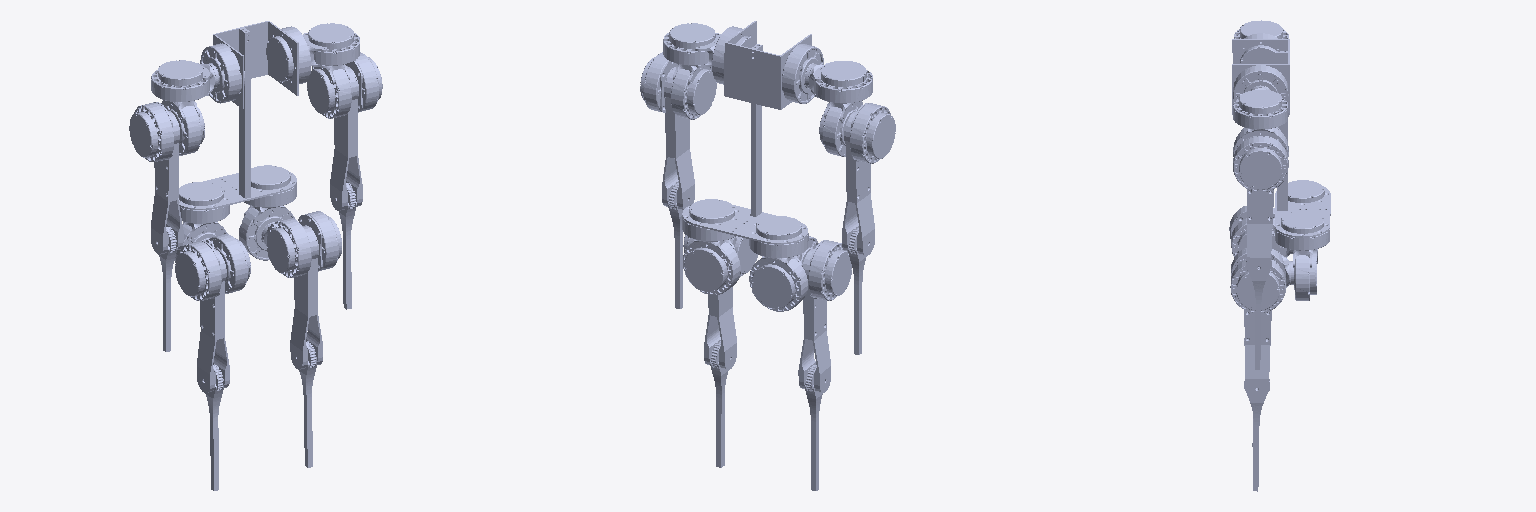
--- What the picture shows (computed from the rendered views, not written in the file) ---
The picture shows the robot from 3 angles, left to right: view 1: azimuth 30°, elevation 25°; view 2: azimuth 150°, elevation 25°; view 3: azimuth 270°, elevation 25°; orthographic projection.
Robot: solidrobot_simplified_with_boots — 17 links, 16 joints (16 revolute); root link torso_link; default pose: every joint at zero.
Visible links, largest first — view 1: right_thigh_link, left_thigh_link, right_elbow_pitch_link, left_elbow_pitch_link, torso_link, right_shoulder_pitch_link, left_shoulder_pitch_link, right_hip_roll_link, right_shoulder_roll_link, left_shoulder_roll_link, left_hip_roll_link, left_hip_yaw_link (+4 smaller); view 2: torso_link, right_elbow_pitch_link, left_elbow_pitch_link, right_thigh_link, left_thigh_link, right_shoulder_pitch_link, right_hip_yaw_link, left_hip_yaw_link, right_hip_roll_link, left_shoulder_pitch_link, right_shoulder_roll_link, left_hip_roll_link (+5 smaller); view 3: left_elbow_pitch_link, left_thigh_link, torso_link, left_shoulder_pitch_link, left_hip_roll_link, left_shoulder_roll_link, left_hip_yaw_link, right_thigh_link, right_hip_roll_link, right_shoulder_roll_link, left_shin_link, left_wrist_pitch_link (+1 smaller).
Link boxes in pixels (left/top/right/bottom): right_thigh_link: left=175, top=234, right=250, bottom=392; left_thigh_link: left=267, top=211, right=341, bottom=369; right_elbow_pitch_link: left=129, top=102, right=204, bottom=254; left_elbow_pitch_link: left=307, top=52, right=382, bottom=210; torso_link: left=178, top=21, right=298, bottom=209; right_shoulder_pitch_link: left=151, top=60, right=209, bottom=120; left_shoulder_pitch_link: left=308, top=23, right=359, bottom=83; right_hip_roll_link: left=179, top=182, right=229, bottom=240; right_shoulder_roll_link: left=198, top=43, right=244, bottom=103; left_shoulder_roll_link: left=266, top=26, right=326, bottom=83; left_hip_roll_link: left=244, top=165, right=296, bottom=224; left_hip_yaw_link: left=239, top=208, right=294, bottom=260; torso_link: left=682, top=21, right=811, bottom=244; right_elbow_pitch_link: left=819, top=103, right=895, bottom=255; left_elbow_pitch_link: left=640, top=52, right=716, bottom=210; right_thigh_link: left=798, top=236, right=851, bottom=392; left_thigh_link: left=683, top=235, right=757, bottom=369; right_shoulder_pitch_link: left=814, top=61, right=872, bottom=121; right_hip_yaw_link: left=749, top=254, right=807, bottom=311; left_hip_yaw_link: left=683, top=237, right=740, bottom=294; right_hip_roll_link: left=749, top=216, right=808, bottom=274; left_shoulder_pitch_link: left=663, top=23, right=716, bottom=83; right_shoulder_roll_link: left=782, top=44, right=827, bottom=103; left_hip_roll_link: left=682, top=199, right=735, bottom=258; left_elbow_pitch_link: left=1233, top=128, right=1288, bottom=278; left_thigh_link: left=1230, top=248, right=1285, bottom=399; torso_link: left=1232, top=39, right=1330, bottom=237; left_shoulder_pitch_link: left=1233, top=90, right=1288, bottom=141; left_hip_roll_link: left=1275, top=211, right=1329, bottom=267; left_shoulder_roll_link: left=1233, top=65, right=1288, bottom=101; left_hip_yaw_link: left=1273, top=251, right=1316, bottom=300; right_thigh_link: left=1229, top=206, right=1280, bottom=256; right_hip_roll_link: left=1288, top=180, right=1324, bottom=202; right_shoulder_roll_link: left=1240, top=33, right=1278, bottom=63; left_shin_link: left=1244, top=379, right=1269, bottom=491; left_wrist_pitch_link: left=1246, top=258, right=1271, bottom=369.
Bounding box of the posed robot: 0.4375 × 0.1752 × 0.7926 m (x, y, z).
Meshes: 17 distinct files referenced, 17 mesh visuals loaded (17 binary STL).

The robot description file, URDF, robot "solidrobot_simplified_with_boots":
<?xml version="1.0" encoding="utf-8"?>
<!--
==================================================================================
 Mk1 Humanoid Robot Project

 Author:  Wirdegeist
 Website: https://wirdegeist.com
 YouTube: https://www.youtube.com/@WiredGeist
 
 The original designer of the robot is Wirdegeist.
==================================================================================
-->
<robot
  name="solidrobot_simplified_with_boots">
  <link
    name="torso_link">
    <inertial>
      <origin
        xyz="0.0735570250245862 -0.00657098415022939 0.316873993806097"
        rpy="0 0 0" />
      <mass
        value="0.140954032720336" />
      <inertia
        ixx="0.000546230062299278"
        ixy="3.30807255277636E-07"
        ixz="5.26351692219932E-07"
        iyy="0.000630300371054323"
        iyz="8.38720219041125E-07"
        izz="0.000288402650458768" />
    </inertial>
    <visual>
      <origin
        xyz="0 0 0"
        rpy="0 0 0" />
      <geometry>
        <mesh
          filename="package://solidrobot_simplified_with_boots/meshes/torso_link.STL" />
      </geometry>
      <material
        name="">
        <color
          rgba="0.792156862745098 0.819607843137255 0.933333333333333 1" />
      </material>
    </visual>
    <collision>
      <origin
        xyz="0 0 0"
        rpy="0 0 0" />
      <geometry>
        <mesh
          filename="package://solidrobot_simplified_with_boots/meshes/torso_link.STL" />
      </geometry>
    </collision>
  </link>
  <link
    name="left_hip_roll_link">
    <inertial>
      <origin
        xyz="-0.000114947547805805 0.0536490438077871 0.000177431648711757"
        rpy="0 0 0" />
      <mass
        value="0.254332179235878" />
      <inertia
        ixx="0.000128370450619945"
        ixy="-1.96130685282633E-07"
        ixz="-2.61897435863812E-07"
        iyy="0.000237360602932836"
        iyz="2.96641272829929E-07"
        izz="0.000130425200675122" />
    </inertial>
    <visual>
      <origin
        xyz="0 0 0"
        rpy="0 0 0" />
      <geometry>
        <mesh
          filename="package://solidrobot_simplified_with_boots/meshes/left_hip_roll_link.STL" />
      </geometry>
      <material
        name="">
        <color
          rgba="0.792156862745098 0.819607843137255 0.933333333333333 1" />
      </material>
    </visual>
    <collision>
      <origin
        xyz="0 0 0"
        rpy="0 0 0" />
      <geometry>
        <mesh
          filename="package://solidrobot_simplified_with_boots/meshes/left_hip_roll_link.STL" />
      </geometry>
    </collision>
  </link>
  <joint
    name="left_hip_roll_joint"
    type="revolute">
    <origin
      xyz="0.13715 0.026612 0.08935"
      rpy="1.5708 0 0" />
    <parent
      link="torso_link" />
    <child
      link="left_hip_roll_link" />
    <axis
      xyz="0.0020373 -1 -0.0022436" />
    <limit
      lower="-0.52"
      upper="1.57"
      effort="3"
      velocity="5" />
  </joint>
  <link
    name="left_hip_yaw_link">
    <inertial>
      <origin
        xyz="-4.98949515152225E-05 -2.8843978775589E-06 -0.00117839053662356"
        rpy="0 0 0" />
      <mass
        value="0.25433233181562" />
      <inertia
        ixx="0.00013042649146065"
        ixy="2.70804602762724E-07"
        ixz="-5.96031153416352E-07"
        iyy="0.00012836998621528"
        iyz="-2.69684578929918E-07"
        izz="0.000237355790521917" />
    </inertial>
    <visual>
      <origin
        xyz="0 0 0"
        rpy="0 0 0" />
      <geometry>
        <mesh
          filename="package://solidrobot_simplified_with_boots/meshes/left_hip_yaw_link.STL" />
      </geometry>
      <material
        name="">
        <color
          rgba="0.792156862745098 0.819607843137255 0.933333333333333 1" />
      </material>
    </visual>
    <collision>
      <origin
        xyz="0 0 0"
        rpy="0 0 0" />
      <geometry>
        <mesh
          filename="package://solidrobot_simplified_with_boots/meshes/left_hip_yaw_link.STL" />
      </geometry>
    </collision>
  </link>
  <joint
    name="left_hip_yaw_joint"
    type="revolute">
    <origin
      xyz="4.8954E-05 -0.024028 -5.391E-05"
      rpy="0 0 0" />
    <parent
      link="left_hip_roll_link" />
    <child
      link="left_hip_yaw_link" />
    <axis
      xyz="0.006112 0.002256 -0.99998" />
    <limit
      lower="-0.785"
      upper="0.758"
      effort="3"
      velocity="4" />
  </joint>
  <link
    name="left_thigh_link">
    <inertial>
      <origin
        xyz="0.02624021050843 -0.0156327198586472 -0.00035154755420113"
        rpy="0 0 0" />
      <mass
        value="0.57208527692512" />
      <inertia
        ixx="0.0010936175515106"
        ixy="-2.55175532781407E-06"
        ixz="-4.35838232091451E-06"
        iyy="0.000277668567968848"
        iyz="5.55501349296024E-06"
        izz="0.000860495273148505" />
    </inertial>
    <visual>
      <origin
        xyz="0 0 0"
        rpy="0 0 0" />
      <geometry>
        <mesh
          filename="package://solidrobot_simplified_with_boots/meshes/left_thigh_link.STL" />
      </geometry>
      <material
        name="">
        <color
          rgba="0.792156862745098 0.819607843137255 0.933333333333333 1" />
      </material>
    </visual>
    <collision>
      <origin
        xyz="0 0 0"
        rpy="0 0 0" />
      <geometry>
        <mesh
          filename="package://solidrobot_simplified_with_boots/meshes/left_thigh_link.STL" />
      </geometry>
    </collision>
  </link>
  <joint
    name="left_hip_pitch_joint"
    type="revolute">
    <origin
      xyz="-0.00046757 -0.00017258 0.076498"
      rpy="2.7054E-05 -0.025186 0.004023" />
    <parent
      link="left_hip_yaw_link" />
    <child
      link="left_thigh_link" />
    <axis
      xyz="0.99979 0.0068966 -0.019048" />
    <limit
      lower="-0.7"
      upper="2.09"
      effort="5"
      velocity="6" />
  </joint>
  <link
    name="left_shin_link">
    <inertial>
      <origin
        xyz="0.019108490758436 -0.0405818717609644 -0.00138473269690644"
        rpy="0 0 0" />
      <mass
        value="0.0550708966807955" />
      <inertia
        ixx="9.776786831143E-05"
        ixy="1.01843316788988E-06"
        ixz="2.01132046640734E-08"
        iyy="4.93562692649183E-06"
        iyz="-7.13560017091563E-07"
        izz="9.57732120805793E-05" />
    </inertial>
    <visual>
      <origin
        xyz="0 0 0"
        rpy="0 0 0" />
      <geometry>
        <mesh
          filename="package://solidrobot_simplified_with_boots/meshes/left_shin_link.STL" />
      </geometry>
      <material
        name="">
        <color
          rgba="0.792156862745098 0.819607843137255 0.933333333333333 1" />
      </material>
    </visual>
    <collision>
      <origin
        xyz="0 0 0"
        rpy="0 0 0" />
      <geometry>
        <mesh
          filename="package://solidrobot_simplified_with_boots/meshes/left_shin_link.STL" />
      </geometry>
    </collision>
  </link>
  <joint
    name="left_knee_pitch_joint"
    type="revolute">
    <origin
      xyz="0.0098801 -0.19991 0.0028715"
      rpy="-0.022985 0.024934 -0.0041624" />
    <parent
      link="left_thigh_link" />
    <child
      link="left_shin_link" />
    <axis
      xyz="0.99992 0.01092 0.0061363" />
    <limit
      lower="0"
      upper="2.618"
      effort="5"
      velocity="6" />
  </joint>
  <link
    name="right_hip_roll_link">
    <inertial>
      <origin
        xyz="-0.000118264859322884 0.053736541481577 6.46134893143337E-05"
        rpy="0 0 0" />
      <mass
        value="0.254334592210614" />
      <inertia
        ixx="0.000128384666047486"
        ixy="-1.98560621029036E-07"
        ixz="3.43081097069306E-07"
        iyy="0.000237361805265284"
        iyz="1.84399720050056E-07"
        izz="0.000130411120041498" />
    </inertial>
    <visual>
      <origin
        xyz="0 0 0"
        rpy="0 0 0" />
      <geometry>
        <mesh
          filename="package://solidrobot_simplified_with_boots/meshes/right_hip_roll_link.STL" />
      </geometry>
      <material
        name="">
        <color
          rgba="0.792156862745098 0.819607843137255 0.933333333333333 1" />
      </material>
    </visual>
    <collision>
      <origin
        xyz="0 0 0"
        rpy="0 0 0" />
      <geometry>
        <mesh
          filename="package://solidrobot_simplified_with_boots/meshes/right_hip_roll_link.STL" />
      </geometry>
    </collision>
  </link>
  <joint
    name="right_hip_roll_joint"
    type="revolute">
    <origin
      xyz="0.011152 0.027111 0.089008"
      rpy="1.5708 0 0" />
    <parent
      link="torso_link" />
    <child
      link="right_hip_roll_link" />
    <axis
      xyz="0.0020373 -1 -0.0022436" />
    <limit
      lower="-1.57"
      upper="0.52"
      effort="3"
      velocity="5" />
  </joint>
  <link
    name="right_hip_yaw_link">
    <inertial>
      <origin
        xyz="1.74110372218664E-07 -2.91370063179586E-06 -0.001179346312974"
        rpy="0 0 0" />
      <mass
        value="0.254334774028104" />
      <inertia
        ixx="0.000130669401208267"
        ixy="-2.50326829379565E-07"
        ixz="5.08632255903003E-06"
        iyy="0.000128366981226726"
        iyz="-2.47277328405126E-07"
        izz="0.000237117629198696" />
    </inertial>
    <visual>
      <origin
        xyz="0 0 0"
        rpy="0 0 0" />
      <geometry>
        <mesh
          filename="package://solidrobot_simplified_with_boots/meshes/right_hip_yaw_link.STL" />
      </geometry>
      <material
        name="">
        <color
          rgba="0.792156862745098 0.819607843137255 0.933333333333333 1" />
      </material>
    </visual>
    <collision>
      <origin
        xyz="0 0 0"
        rpy="0 0 0" />
      <geometry>
        <mesh
          filename="package://solidrobot_simplified_with_boots/meshes/right_hip_yaw_link.STL" />
      </geometry>
    </collision>
  </link>
  <joint
    name="right_hip_yaw_joint"
    type="revolute">
    <origin
      xyz="4.8777E-05 -0.023941 -5.3714E-05"
      rpy="0 0 0" />
    <parent
      link="right_hip_roll_link" />
    <child
      link="right_hip_yaw_link" />
    <axis
      xyz="0.019063 -0.0022043 0.99982" />
    <limit
      lower="-0.785"
      upper="0.785"
      effort="3"
      velocity="4" />
  </joint>
  <link
    name="right_thigh_link">
    <inertial>
      <origin
        xyz="-0.023722181580248 -0.0160855953333057 0.000698786593479724"
        rpy="0 0 0" />
      <mass
        value="0.572079440193965" />
      <inertia
        ixx="0.00109320963042545"
        ixy="1.73421620337816E-05"
        ixz="-5.50706816463634E-06"
        iyy="0.000278007022282636"
        iyz="4.11615583923588E-06"
        izz="0.000860558231618425" />
    </inertial>
    <visual>
      <origin
        xyz="0 0 0"
        rpy="0 0 0" />
      <geometry>
        <mesh
          filename="package://solidrobot_simplified_with_boots/meshes/right_thigh_link.STL" />
      </geometry>
      <material
        name="">
        <color
          rgba="0.792156862745098 0.819607843137255 0.933333333333333 1" />
      </material>
    </visual>
    <collision>
      <origin
        xyz="0 0 0"
        rpy="0 0 0" />
      <geometry>
        <mesh
          filename="package://solidrobot_simplified_with_boots/meshes/right_thigh_link.STL" />
      </geometry>
    </collision>
  </link>
  <joint
    name="right_hip_pitch_joint"
    type="revolute">
    <origin
      xyz="0.00145834093639978 -0.000168630839315592 0.0764859124633704"
      rpy="-0.000128406254902389 0.0251852503721244 -0.00402498936357036" />
    <parent
      link="right_hip_yaw_link" />
    <child
      link="right_thigh_link" />
    <axis
      xyz="0.999921547423843 0.0109199351488499 0.00613628665008884" />
    <limit
      lower="-0.7"
      upper="2.09"
      effort="5"
      velocity="6" />
  </joint>
  <link
    name="right_shin_link">
    <inertial>
      <origin
        xyz="-0.0128186287602509 -0.0408872885434479 0.00193320534232777"
        rpy="0 0 0" />
      <mass
        value="0.0550709021777974" />
      <inertia
        ixx="9.77689176276829E-05"
        ixy="7.25395261876219E-07"
        ixz="-1.12359080176406E-07"
        iyy="4.97154342219153E-06"
        iyz="2.06346361804004E-06"
        izz="9.57364641714847E-05" />
    </inertial>
    <visual>
      <origin
        xyz="0 0 0"
        rpy="0 0 0" />
      <geometry>
        <mesh
          filename="package://solidrobot_simplified_with_boots/meshes/right_shin_link.STL" />
      </geometry>
      <material
        name="">
        <color
          rgba="0.792156862745098 0.819607843137255 0.933333333333333 1" />
      </material>
    </visual>
    <collision>
      <origin
        xyz="0 0 0"
        rpy="0 0 0" />
      <geometry>
        <mesh
          filename="package://solidrobot_simplified_with_boots/meshes/right_shin_link.STL" />
      </geometry>
    </collision>
  </link>
  <joint
    name="right_knee_pitch_joint"
    type="revolute">
    <origin
      xyz="-0.0094743 -0.20011 0.0014179"
      rpy="0.0077519 -0.025132 0.0038761" />
    <parent
      link="right_thigh_link" />
    <child
      link="right_shin_link" />
    <axis
      xyz="0.99979 0.0068966 -0.019048" />
    <limit
      lower="0"
      upper="2.168"
      effort="5"
      velocity="6" />
  </joint>
  <link
    name="left_shoulder_roll_link">
    <inertial>
      <origin
        xyz="0.000562880637330787 -6.3948333092867E-05 0.0265336304661822"
        rpy="0 0 0" />
      <mass
        value="0.254334487262645" />
      <inertia
        ixx="0.000130467885898882"
        ixy="-2.43266258718182E-07"
        ixz="1.98050290460694E-06"
        iyy="0.00012836708733508"
        iyz="-2.61308156784542E-07"
        izz="0.000237327617483522" />
    </inertial>
    <visual>
      <origin
        xyz="0 0 0"
        rpy="0 0 0" />
      <geometry>
        <mesh
          filename="package://solidrobot_simplified_with_boots/meshes/left_shoulder_roll_link.STL" />
      </geometry>
      <material
        name="">
        <color
          rgba="0.792156862745098 0.819607843137255 0.933333333333333 1" />
      </material>
    </visual>
    <collision>
      <origin
        xyz="0 0 0"
        rpy="0 0 0" />
      <geometry>
        <mesh
          filename="package://solidrobot_simplified_with_boots/meshes/left_shoulder_roll_link.STL" />
      </geometry>
    </collision>
  </link>
  <joint
    name="left_shoulder_roll_joint"
    type="revolute">
    <origin
      xyz="0.110998882399488 -0.0455051734901898 0.409108272533761"
      rpy="-3.13998171436938 -1.55376021799605 -0.00777342947461764" />
    <parent
      link="torso_link" />
    <child
      link="left_shoulder_roll_link" />
    <axis
      xyz="0.0190632802144107 -0.00220432469658122 0.99981584919429" />
    <limit
      lower="-2"
      upper="2"
      effort="17"
      velocity="40" />
  </joint>
  <link
    name="left_shoulder_pitch_link">
    <inertial>
      <origin
        xyz="-8.06497817698593E-06 0.00117790273201723 5.9715824544504E-05"
        rpy="0 0 0" />
      <mass
        value="0.254332332795262" />
      <inertia
        ixx="0.000128370500046284"
        ixy="-1.95959888496512E-07"
        ixz="-2.61649040304979E-07"
        iyy="0.000237359210531814"
        iyz="2.96508163610343E-07"
        izz="0.000130423760195869" />
    </inertial>
    <visual>
      <origin
        xyz="0 0 0"
        rpy="0 0 0" />
      <geometry>
        <mesh
          filename="package://solidrobot_simplified_with_boots/meshes/left_shoulder_pitch_link.STL" />
      </geometry>
      <material
        name="">
        <color
          rgba="0.792156862745098 0.819607843137255 0.933333333333333 1" />
      </material>
    </visual>
    <collision>
      <origin
        xyz="0 0 0"
        rpy="0 0 0" />
      <geometry>
        <mesh
          filename="package://solidrobot_simplified_with_boots/meshes/left_shoulder_pitch_link.STL" />
      </geometry>
    </collision>
  </link>
  <joint
    name="left_shoulder_pitch_joint"
    type="revolute">
    <origin
      xyz="0.00198672795906335 -0.000229729273066762 0.104198337283602"
      rpy="-0.0213055135351303 0.0062351092643732 -1.56605493337887" />
    <parent
      link="left_shoulder_roll_link" />
    <child
      link="left_shoulder_pitch_link" />
    <axis
      xyz="0.00203734066689205 -0.999995407816482 -0.00224356612445874" />
    <limit
      lower="-2"
      upper="3.14"
      effort="17"
      velocity="40" />
  </joint>
  <link
    name="left_elbow_pitch_link">
    <inertial>
      <origin
        xyz="0.0262419808146382 -0.0156316227176256 -0.000258366654039097"
        rpy="0 0 0" />
      <mass
        value="0.572085158074377" />
      <inertia
        ixx="0.0010936197074511"
        ixy="-2.48604906918452E-06"
        ixz="-4.3348778646848E-06"
        iyy="0.000277753641389354"
        iyz="8.98832413368173E-06"
        izz="0.000860410519768" />
    </inertial>
    <visual>
      <origin
        xyz="0 0 0"
        rpy="0 0 0" />
      <geometry>
        <mesh
          filename="package://solidrobot_simplified_with_boots/meshes/left_elbow_pitch_link.STL" />
      </geometry>
      <material
        name="">
        <color
          rgba="0.792156862745098 0.819607843137255 0.933333333333333 1" />
      </material>
    </visual>
    <collision>
      <origin
        xyz="0 0 0"
        rpy="0 0 0" />
      <geometry>
        <mesh
          filename="package://solidrobot_simplified_with_boots/meshes/left_elbow_pitch_link.STL" />
      </geometry>
    </collision>
  </link>
  <joint
    name="left_elbow_pitch_joint"
    type="revolute">
    <origin
      xyz="0.000155856561017853 -0.0764996486979603 -0.000171632808521061"
      rpy="2.79152858070666 -1.54402236122594 -2.79631801473116" />
    <parent
      link="left_shoulder_pitch_link" />
    <child
      link="left_elbow_pitch_link" />
    <axis
      xyz="0.999794790284537 0.00689662632856149 -0.0190476734847979" />
    <limit
      lower="0"
      upper="2.6"
      effort="17"
      velocity="40" />
  </joint>
  <link
    name="left_wrist_pitch_link">
    <inertial>
      <origin
        xyz="0.0190649789419251 -0.0406665968639205 0.000255353087503879"
        rpy="0 0 0" />
      <mass
        value="0.0550708955224606" />
      <inertia
        ixx="9.77736058457863E-05"
        ixy="6.66511179538506E-07"
        ixz="-4.78918224629856E-08"
        iyy="4.94413684270904E-06"
        iyz="1.36443816528794E-06"
        izz="9.5758966672094E-05" />
    </inertial>
    <visual>
      <origin
        xyz="0 0 0"
        rpy="0 0 0" />
      <geometry>
        <mesh
          filename="package://solidrobot_simplified_with_boots/meshes/left_wrist_pitch_link.STL" />
      </geometry>
      <material
        name="">
        <color
          rgba="0.792156862745098 0.819607843137255 0.933333333333333 1" />
      </material>
    </visual>
    <collision>
      <origin
        xyz="0 0 0"
        rpy="0 0 0" />
      <geometry>
        <mesh
          filename="package://solidrobot_simplified_with_boots/meshes/left_wrist_pitch_link.STL" />
      </geometry>
    </collision>
  </link>
  <joint
    name="left_wrist_pitch_joint"
    type="revolute">
    <origin
      xyz="0.00975970538641727 -0.199914436587846 0.00287384018404002"
      rpy="0 0 0" />
    <parent
      link="left_elbow_pitch_link" />
    <child
      link="left_wrist_pitch_link" />
    <axis
      xyz="0.999794790284537 0.00689662632855871 -0.0190476734847972" />
    <limit
      lower="-1.57"
      upper="1.57"
      effort="17"
      velocity="40" />
  </joint>
  <link
    name="right_shoulder_roll_link">
    <inertial>
      <origin
        xyz="3.44666503487856E-06 1.67929965592256E-05 -0.00990348256062468"
        rpy="0 0 0" />
      <mass
        value="0.254332241221674" />
      <inertia
        ixx="0.000130428405362356"
        ixy="2.70812586286014E-07"
        ixz="-5.95783582428312E-07"
        iyy="0.000128369956646038"
        iyz="-2.69728712508593E-07"
        izz="0.000237357701007456" />
    </inertial>
    <visual>
      <origin
        xyz="0 0 0"
        rpy="0 0 0" />
      <geometry>
        <mesh
          filename="package://solidrobot_simplified_with_boots/meshes/right_shoulder_roll_link.STL" />
      </geometry>
      <material
        name="">
        <color
          rgba="0.792156862745098 0.819607843137255 0.933333333333333 1" />
      </material>
    </visual>
    <collision>
      <origin
        xyz="0 0 0"
        rpy="0 0 0" />
      <geometry>
        <mesh
          filename="package://solidrobot_simplified_with_boots/meshes/right_shoulder_roll_link.STL" />
      </geometry>
    </collision>
  </link>
  <joint
    name="right_shoulder_roll_joint"
    type="revolute">
    <origin
      xyz="-0.0010078 -0.045062 0.40888"
      rpy="3.1389 1.5627 -0.0043854" />
    <parent
      link="torso_link" />
    <child
      link="right_shoulder_roll_link" />
    <axis
      xyz="0.006112 0.002256 -0.99998" />
    <limit
      lower="-2"
      upper="2"
      effort="17"
      velocity="40" />
  </joint>
  <link
    name="right_shoulder_pitch_link">
    <inertial>
      <origin
        xyz="-8.06557944851849E-06 0.00117788443964417 5.97075974355099E-05"
        rpy="0 0 0" />
      <mass
        value="0.254332313918456" />
      <inertia
        ixx="0.000128370474955642"
        ixy="-1.95920098801516E-07"
        ixz="-2.61553583162377E-07"
        iyy="0.000237360371034128"
        iyz="2.96623893417746E-07"
        izz="0.000130424904119506" />
    </inertial>
    <visual>
      <origin
        xyz="0 0 0"
        rpy="0 0 0" />
      <geometry>
        <mesh
          filename="package://solidrobot_simplified_with_boots/meshes/right_shoulder_pitch_link.STL" />
      </geometry>
      <material
        name="">
        <color
          rgba="0.792156862745098 0.819607843137255 0.933333333333333 1" />
      </material>
    </visual>
    <collision>
      <origin
        xyz="0 0 0"
        rpy="0 0 0" />
      <geometry>
        <mesh
          filename="package://solidrobot_simplified_with_boots/meshes/right_shoulder_pitch_link.STL" />
      </geometry>
    </collision>
  </link>
  <joint
    name="right_shoulder_pitch_joint"
    type="revolute">
    <origin
      xyz="-0.00041424 -0.0001529 0.067773"
      rpy="-3.1377 -0.0018009 -1.5578" />
    <parent
      link="right_shoulder_roll_link" />
    <child
      link="right_shoulder_pitch_link" />
    <axis
      xyz="0.0020373 -1 -0.0022436" />
    <limit
      lower="-3.14"
      upper="0.2"
      effort="17"
      velocity="40" />
  </joint>
  <link
    name="right_elbow_pitch_link">
    <inertial>
      <origin
        xyz="-0.0259597051923321 -0.0160976473781251 -4.30628109905004E-05"
        rpy="0 0 0" />
      <mass
        value="0.572079601817762" />
      <inertia
        ixx="0.00109333585278135"
        ixy="1.71648014503785E-05"
        ixz="1.27595310412635E-06"
        iyy="0.000278001988353145"
        iyz="4.43351094238932E-06"
        izz="0.000860438578501976" />
    </inertial>
    <visual>
      <origin
        xyz="0 0 0"
        rpy="0 0 0" />
      <geometry>
        <mesh
          filename="package://solidrobot_simplified_with_boots/meshes/right_elbow_pitch_link.STL" />
      </geometry>
      <material
        name="">
        <color
          rgba="0.792156862745098 0.819607843137255 0.933333333333333 1" />
      </material>
    </visual>
    <collision>
      <origin
        xyz="0 0 0"
        rpy="0 0 0" />
      <geometry>
        <mesh
          filename="package://solidrobot_simplified_with_boots/meshes/right_elbow_pitch_link.STL" />
      </geometry>
    </collision>
  </link>
  <joint
    name="right_elbow_pitch_joint"
    type="revolute">
    <origin
      xyz="0.00015586 -0.0765 -0.00017163"
      rpy="1.5711 -1.5577 -1.5581" />
    <parent
      link="right_shoulder_pitch_link" />
    <child
      link="right_elbow_pitch_link" />
    <axis
      xyz="0.99992 0.01092 0.0061363" />
    <limit
      lower="0"
      upper="2.6"
      effort="17"
      velocity="40" />
  </joint>
  <link
    name="right_wrist_pitch_link">
    <inertial>
      <origin
        xyz="-0.0163542903086002 -0.0409816411124141 -0.000410741178507604"
        rpy="0 0 0" />
      <mass
        value="0.0550706851244133" />
      <inertia
        ixx="9.77677564721736E-05"
        ixy="1.01822792900537E-06"
        ixz="1.98092042175632E-08"
        iyy="4.9351474566022E-06"
        iyz="-6.84987222347628E-07"
        izz="9.57735590204762E-05" />
    </inertial>
    <visual>
      <origin
        xyz="0 0 0"
        rpy="0 0 0" />
      <geometry>
        <mesh
          filename="package://solidrobot_simplified_with_boots/meshes/right_wrist_pitch_link.STL" />
      </geometry>
      <material
        name="">
        <color
          rgba="0.792156862745098 0.819607843137255 0.933333333333333 1" />
      </material>
    </visual>
    <collision>
      <origin
        xyz="0 0 0"
        rpy="0 0 0" />
      <geometry>
        <mesh
          filename="package://solidrobot_simplified_with_boots/meshes/right_wrist_pitch_link.STL" />
      </geometry>
    </collision>
  </link>
  <joint
    name="right_wrist_pitch_joint"
    type="revolute">
    <origin
      xyz="-0.0081214 -0.2001 0.0014262"
      rpy="0 0 0" />
    <parent
      link="right_elbow_pitch_link" />
    <child
      link="right_wrist_pitch_link" />
    <axis
      xyz="0.99992 0.01092 0.0061363" />
    <limit
      lower="-1.57"
      upper="1.57"
      effort="17"
      velocity="40" />
  </joint>
</robot>
